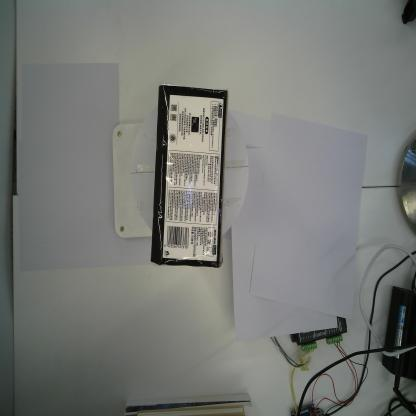Tissue: (151, 82, 228, 270)
